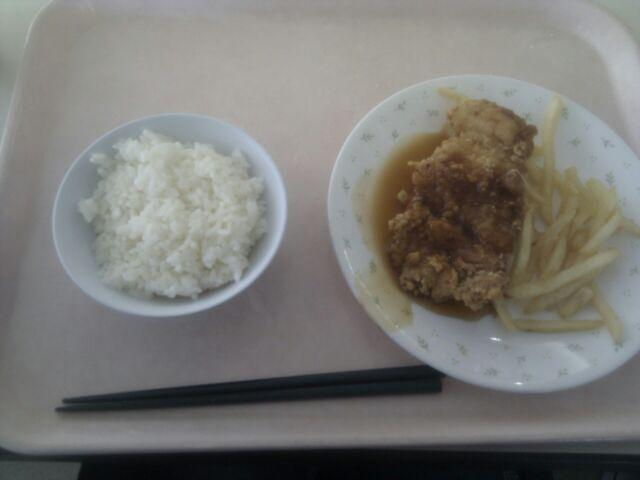plate: (327, 75, 639, 392), (556, 97, 639, 224)
rice: (80, 131, 266, 298)
